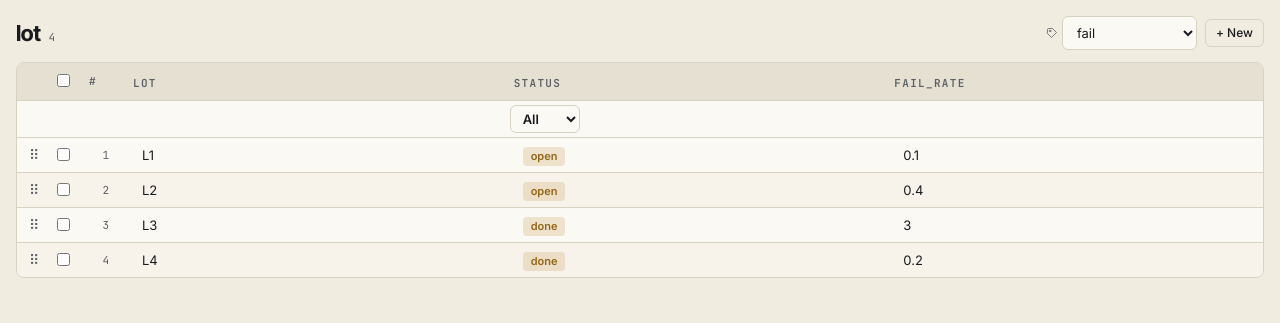
Scenario: selecting rows on a marking › does not filter the table it was made in: every row stays, the selected ones checked and marked
Click the checkbox named "select 2".
click(64, 189)  # box top-left (57, 183), bottom-right (70, 196)
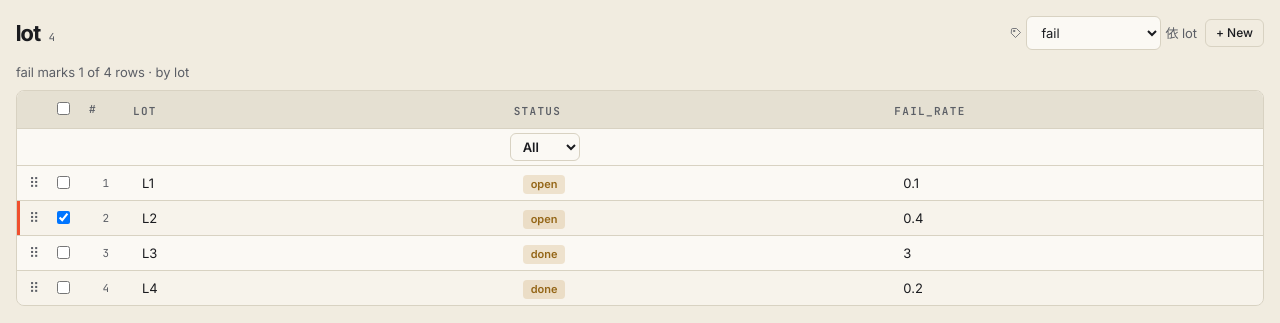
Expected: the checkbox named "select 2" is checked, top-left (57, 211), bottom-right (70, 224)
Expected: the message named "marking filter" shows "fail marks 1 of 4 rows", top-left (16, 64), bottom-right (189, 80)
